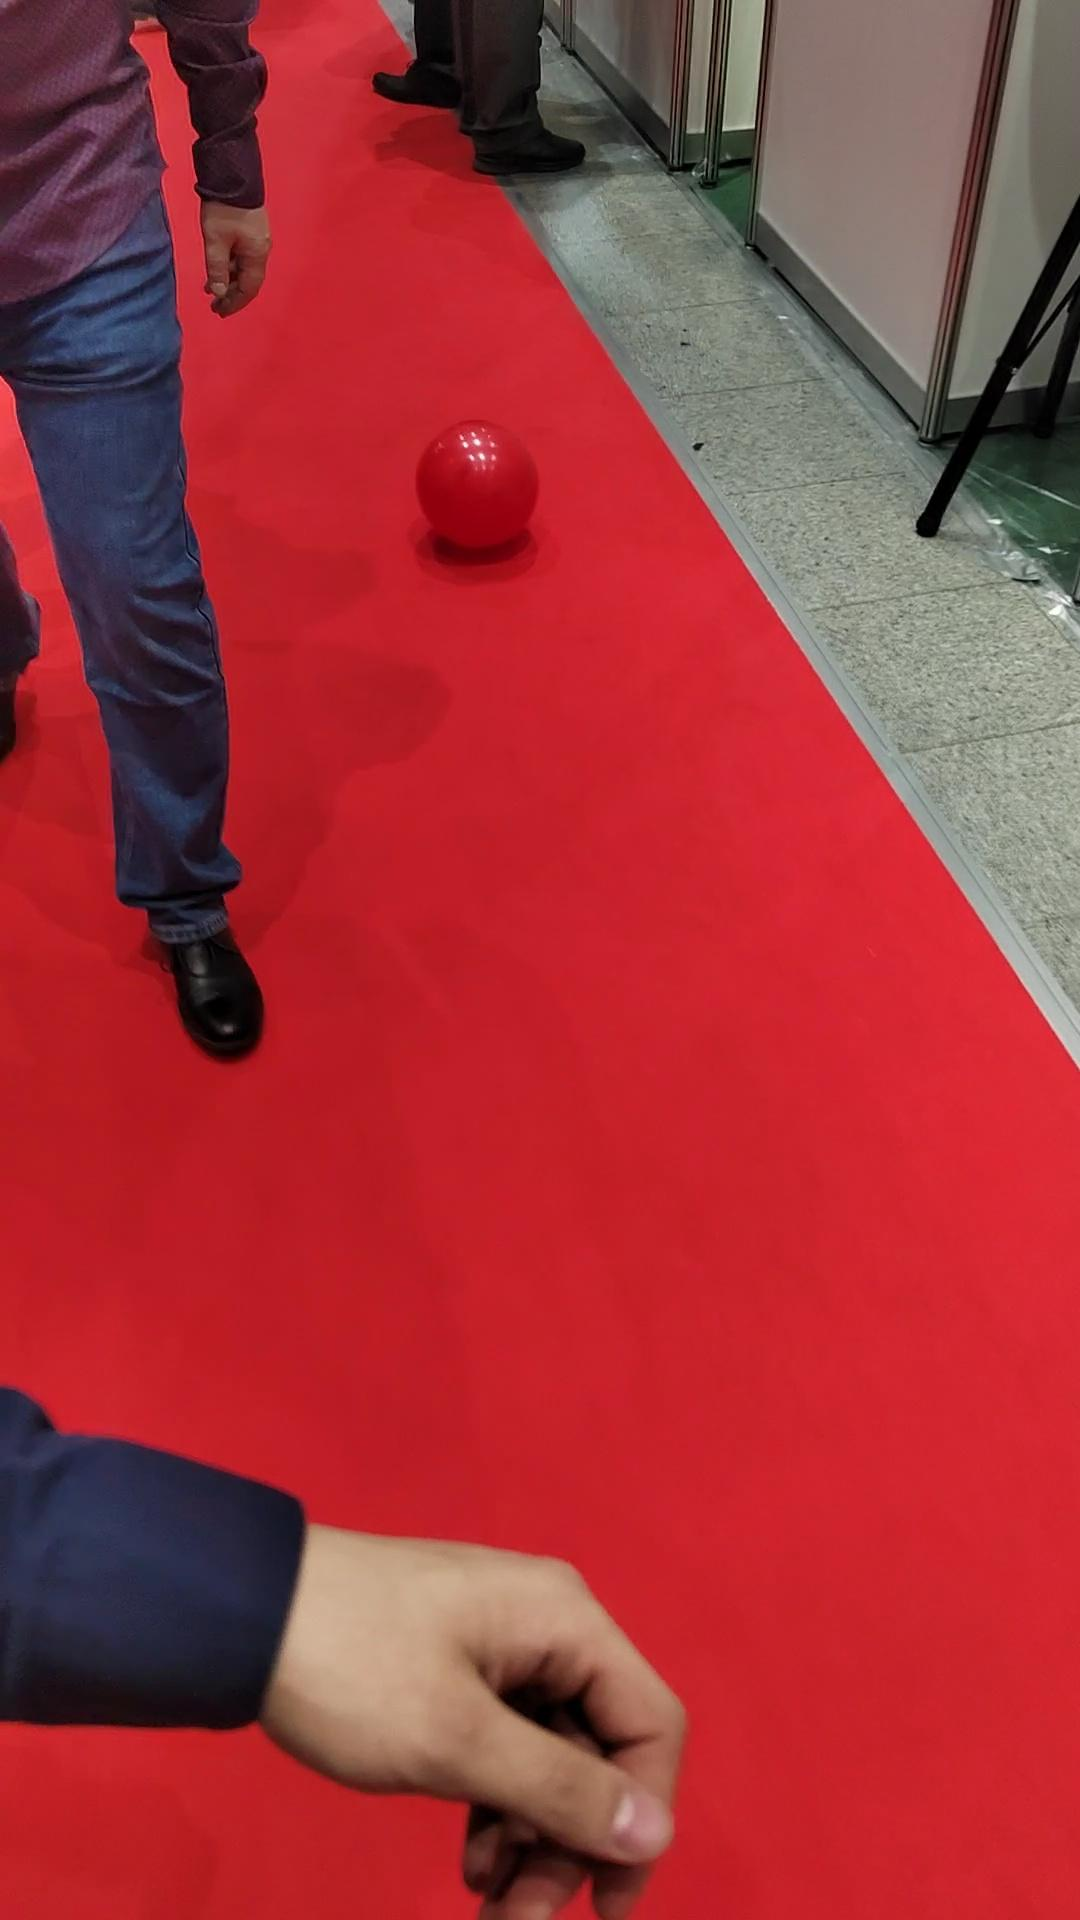red: (414, 419, 539, 550)
